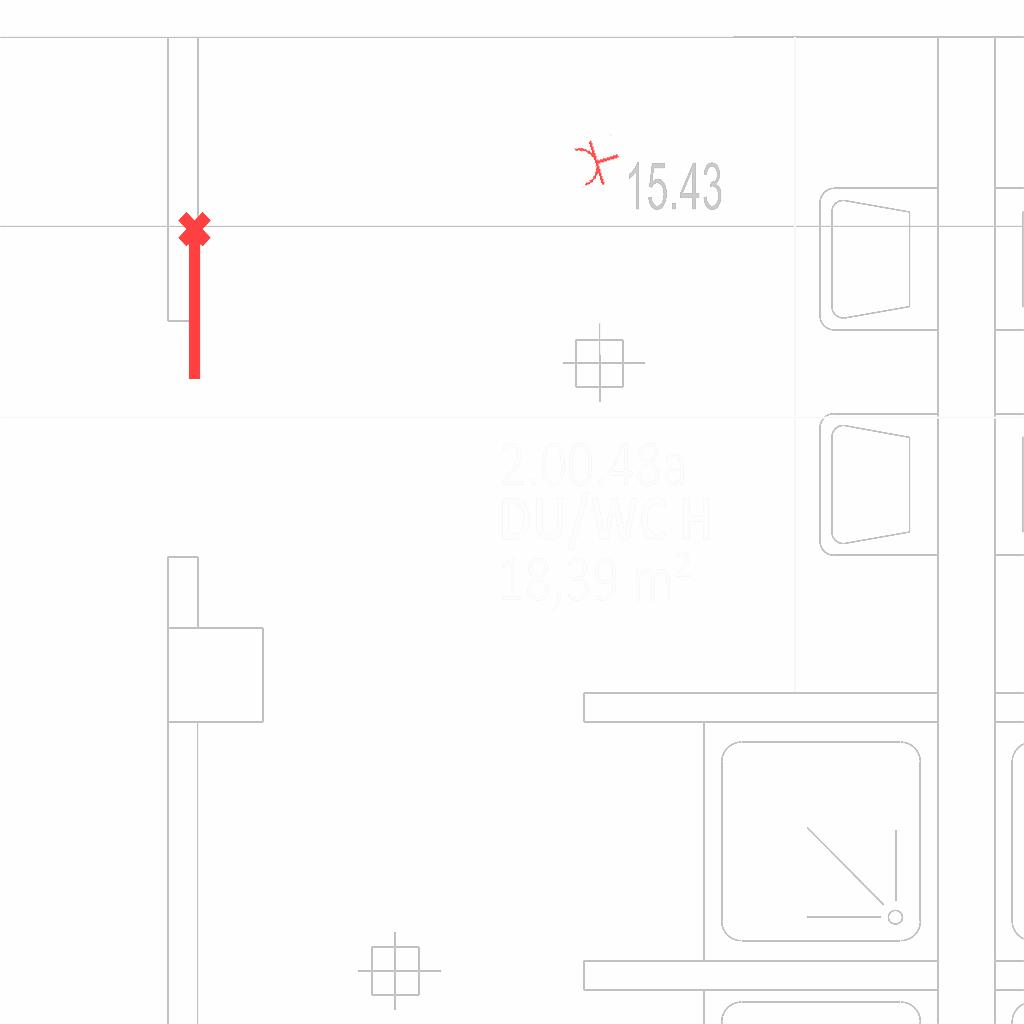ASR_Ansaugoeffnung: (174, 209, 220, 385)
Schukosteckdose_einfach: (570, 130, 627, 192)
